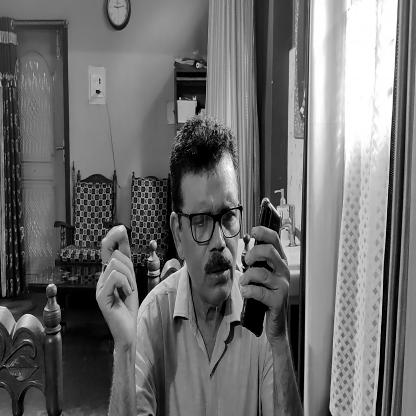Distracted: (165, 112, 245, 314)
